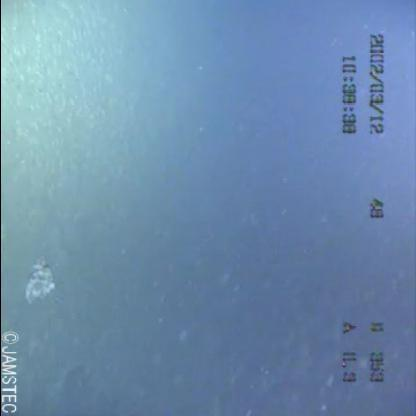Rác: (15, 248, 60, 313)
